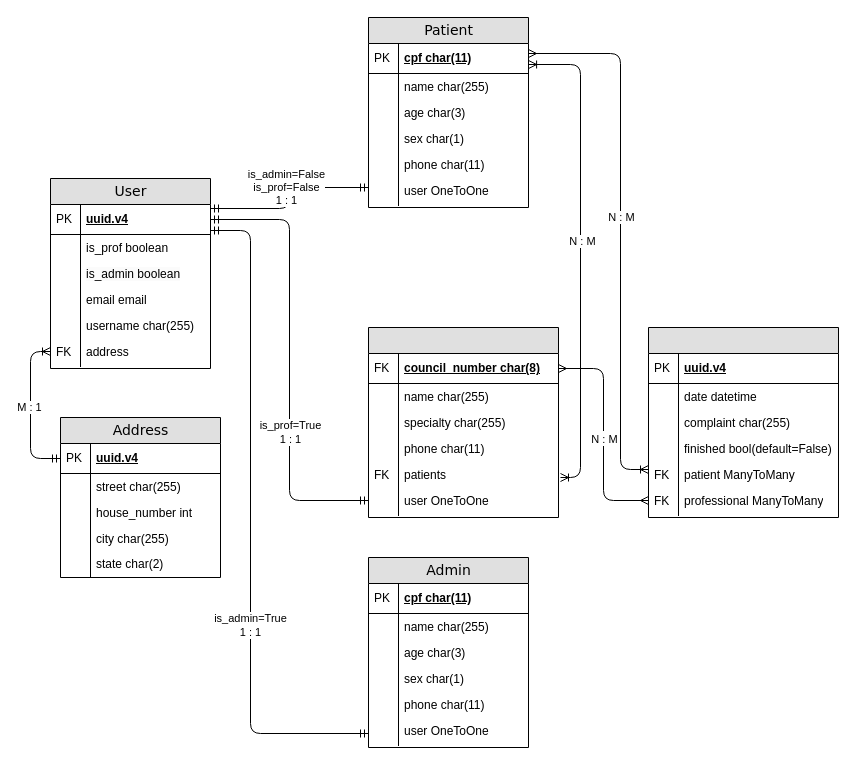
Some shapes in this 856 by 765 pixel diagram are drawn without their labels. The shapes that lost their labels are listed below. From the top down, each one's box as (x1, y1, x2, y2) in pixels, then its label:
(368, 326, 558, 518): Professional
(648, 326, 838, 518): Appointments
